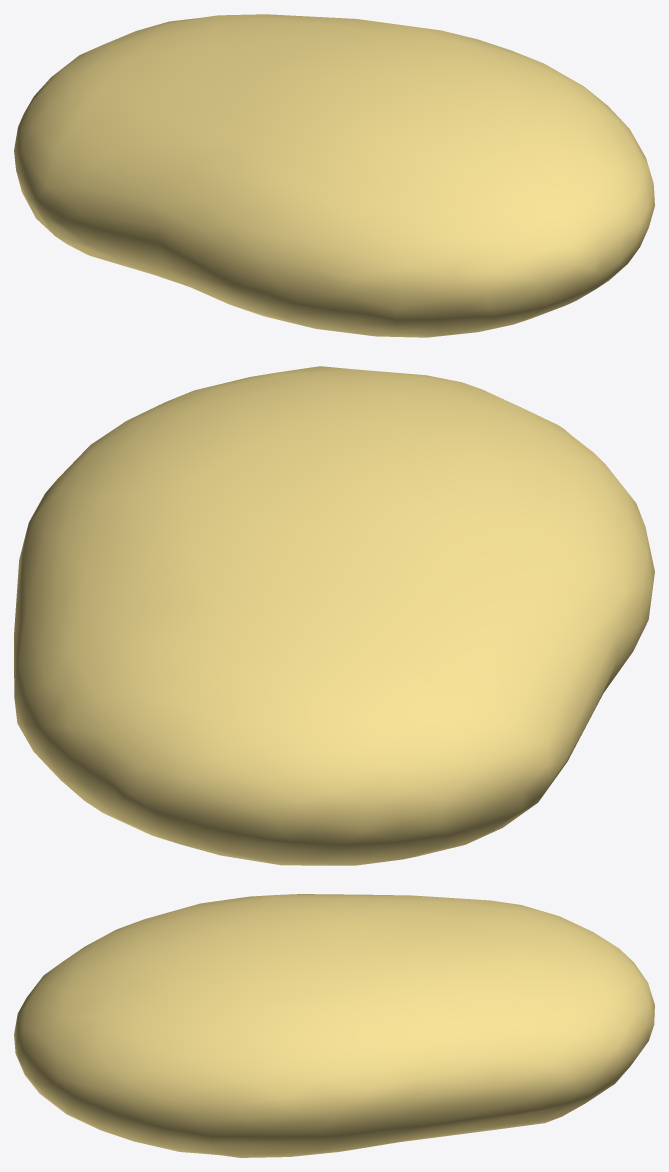
File: fma226239-r_mm2788m.glb
3 renders of one model, top to bottom at view 1: azimuth 30°, elevation 25°; view 2: azimuth 150°, elevation 25°; view 3: azimuth 270°, elevation 25°, orthographic. The views are drawn at different scales.
Parts seen in each view (by area): view 1: FMA226239-R_MM2788M; view 2: FMA226239-R_MM2788M; view 3: FMA226239-R_MM2788M.
Part boxes in pixels (x1=…): FMA226239-R_MM2788M: x1=14, y1=14, x2=654, y2=337; FMA226239-R_MM2788M: x1=14, y1=366, x2=654, y2=865; FMA226239-R_MM2788M: x1=14, y1=894, x2=654, y2=1157.
Size of the model in its own units: 0.00344 by 0.00149 by 0.00435.
